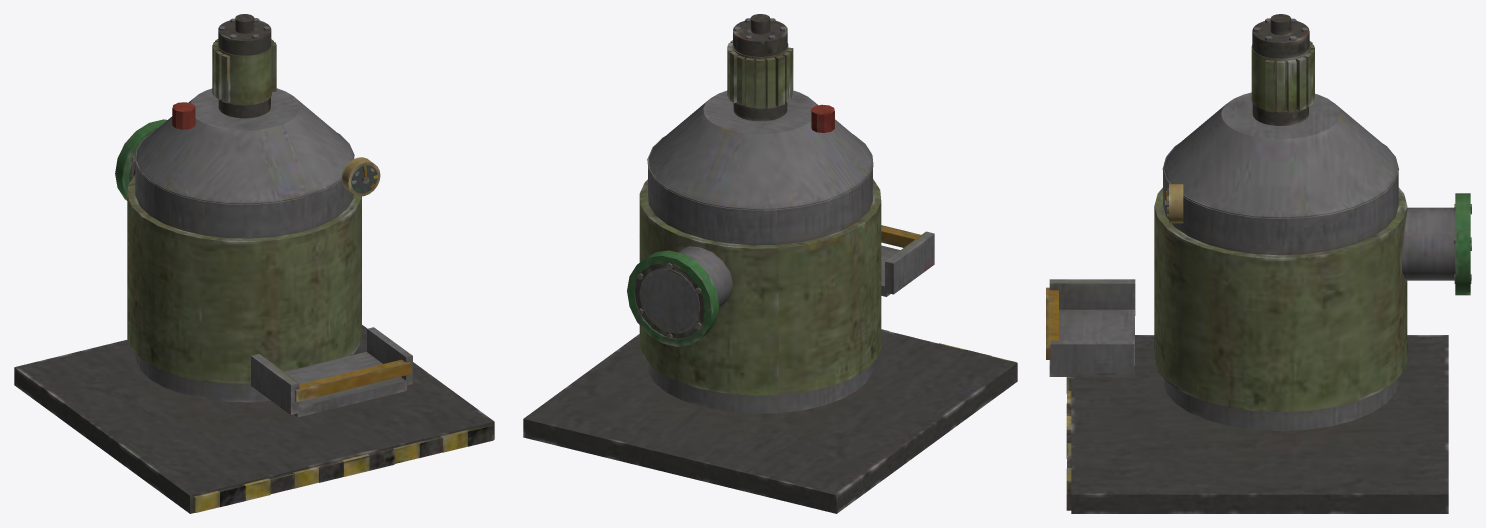
Rendered from fePolymerReactor.glb.
3 renders of one model, left to right at view 1: azimuth 30°, elevation 25°; view 2: azimuth 150°, elevation 25°; view 3: azimuth 270°, elevation 25°, orthographic. The views are drawn at different scales.
Parts seen in each view (by area): view 1: fePolymerReactor_Base, fePolymerReactor_Motor, fePolymerReactor_Fittings; view 2: fePolymerReactor_Base, fePolymerReactor_Motor, fePolymerReactor_Fittings; view 3: fePolymerReactor_Base, fePolymerReactor_Motor, fePolymerReactor_Fittings.
Part boxes in pixels (<box>): fePolymerReactor_Base: <box>14,88,494,513</box>; fePolymerReactor_Motor: <box>212,14,276,118</box>; fePolymerReactor_Fittings: <box>172,102,380,196</box>; fePolymerReactor_Base: <box>523,90,1017,513</box>; fePolymerReactor_Motor: <box>727,14,793,121</box>; fePolymerReactor_Fittings: <box>811,104,834,132</box>; fePolymerReactor_Base: <box>1046,92,1471,513</box>; fePolymerReactor_Motor: <box>1251,14,1314,125</box>; fePolymerReactor_Fittings: <box>1167,184,1183,223</box>.
Bounding box in the file's own units: 0.9012 × 1.1 × 1.02.
1 material, 1 textured.
